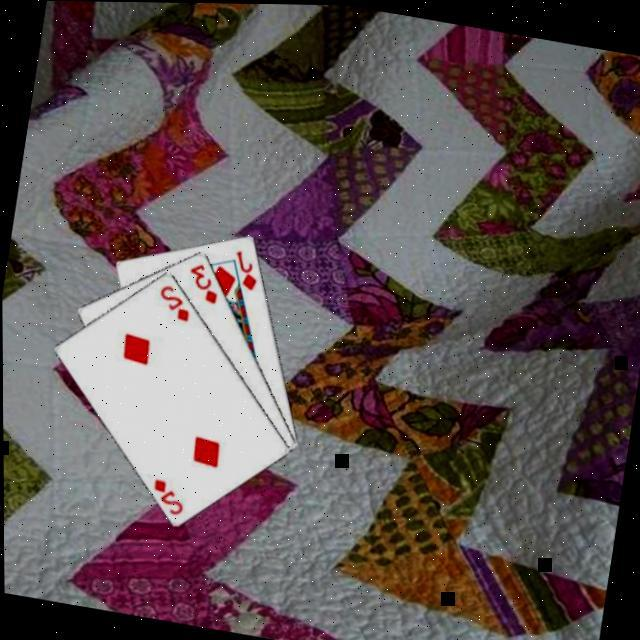2D: (154, 280, 198, 324), (148, 474, 192, 518)
3D: (184, 258, 226, 306)
JD: (230, 246, 266, 293)
